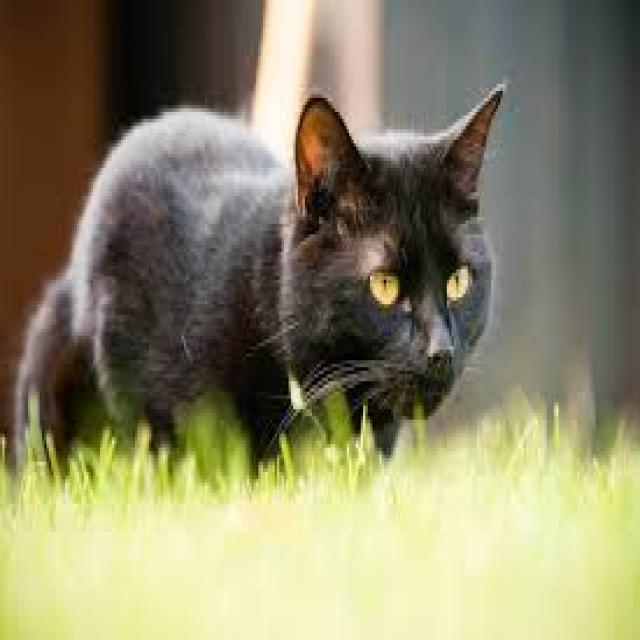black cat: (13, 75, 504, 464)
